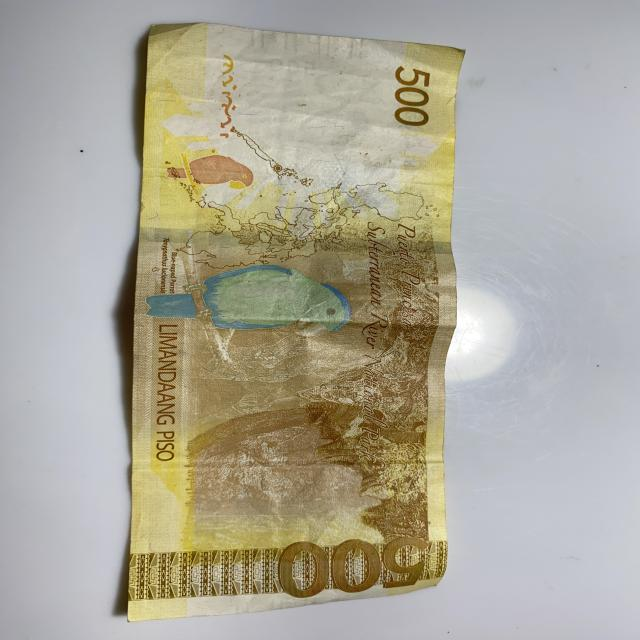500_big_parrot: (144, 263, 352, 341)
500_parrot_watermark: (162, 149, 253, 195)
value_watermark: (268, 59, 322, 76)
